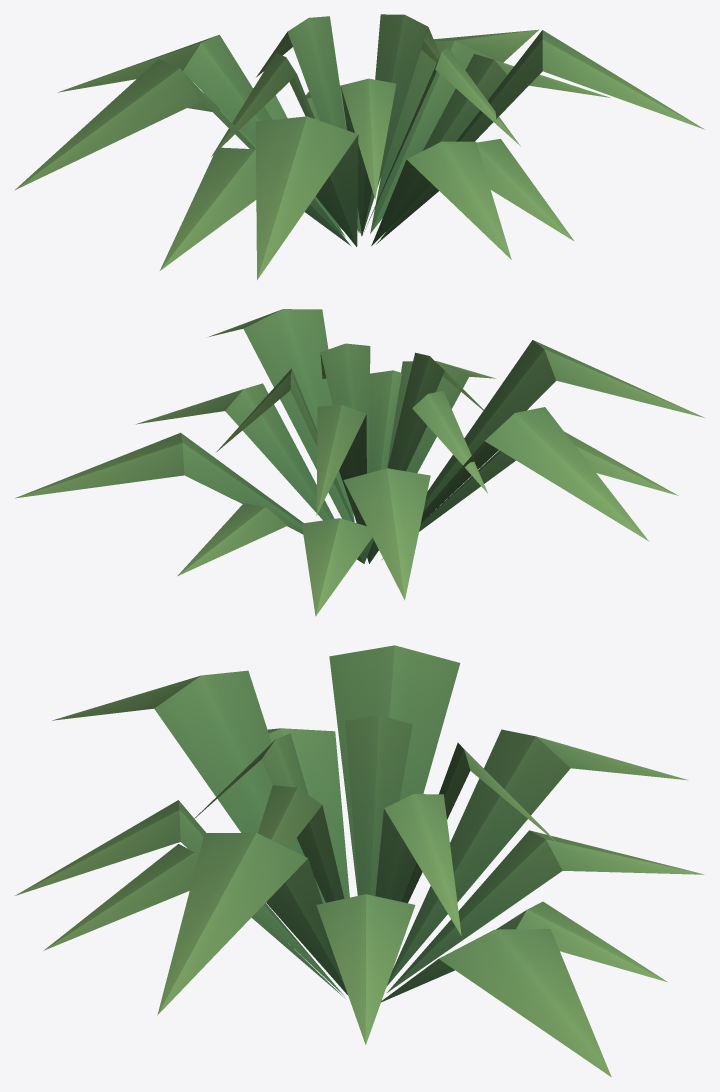
The model's file is cover_fern.glb.
3 renders of one model, top to bottom at view 1: azimuth 30°, elevation 25°; view 2: azimuth 150°, elevation 25°; view 3: azimuth 270°, elevation 25°, orthographic. The views are drawn at different scales.
Parts seen in each view (by area): view 1: cover_fern_leaves; view 2: cover_fern_leaves; view 3: cover_fern_leaves.
Part boxes in pixels (box(x1,y1,x2,y2)): cover_fern_leaves: box(14, 14, 704, 279); cover_fern_leaves: box(15, 309, 704, 616); cover_fern_leaves: box(15, 645, 704, 1076).
Size of the model in its own units: 1.62 by 0.5261 by 1.32.
Materials: 1 (1 with a texture image).
